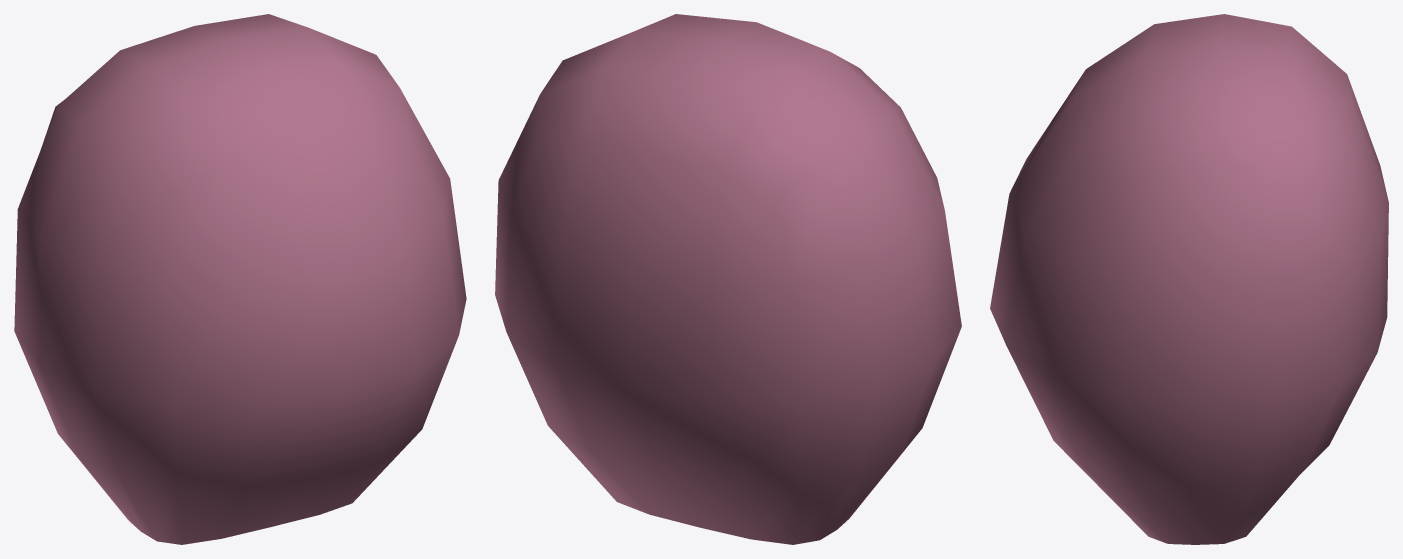
File: Bebe_cabeza.fbx
The picture shows the model from 3 angles, left to right: view 1: azimuth 30°, elevation 25°; view 2: azimuth 150°, elevation 25°; view 3: azimuth 270°, elevation 25°; orthographic projection. The views are drawn at different scales.
Visible parts, largest first — view 1: cabeza; view 2: cabeza; view 3: cabeza.
Part boxes in pixels (box(x1,y1,x2,y2)): cabeza: box(14, 14, 466, 544); cabeza: box(495, 14, 961, 544); cabeza: box(990, 14, 1388, 544).
Size of the model in its own units: 59.4 by 64.71 by 51.83.
